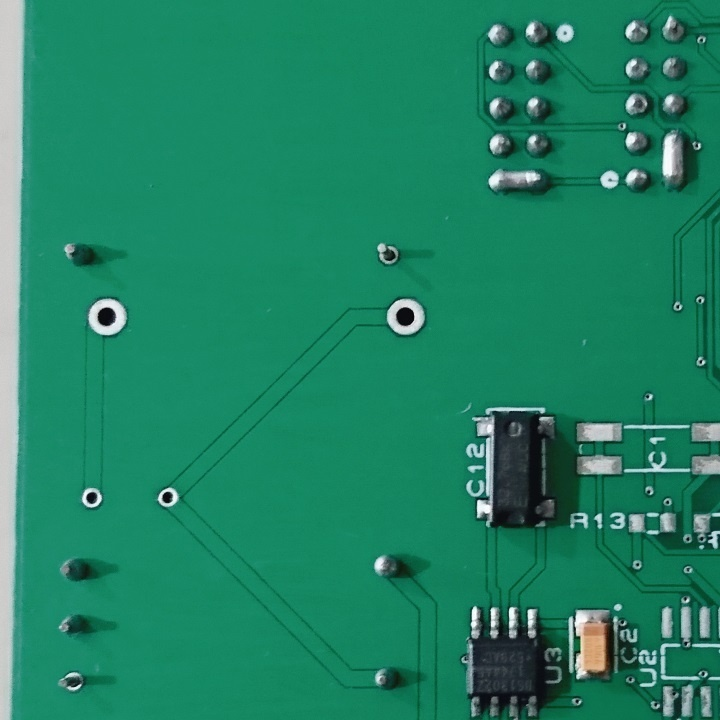F: (86, 293, 130, 340), (384, 295, 429, 340), (373, 238, 401, 270), (53, 668, 86, 695), (80, 485, 104, 513), (156, 485, 179, 510)
P: (484, 165, 553, 198), (659, 124, 687, 193)
